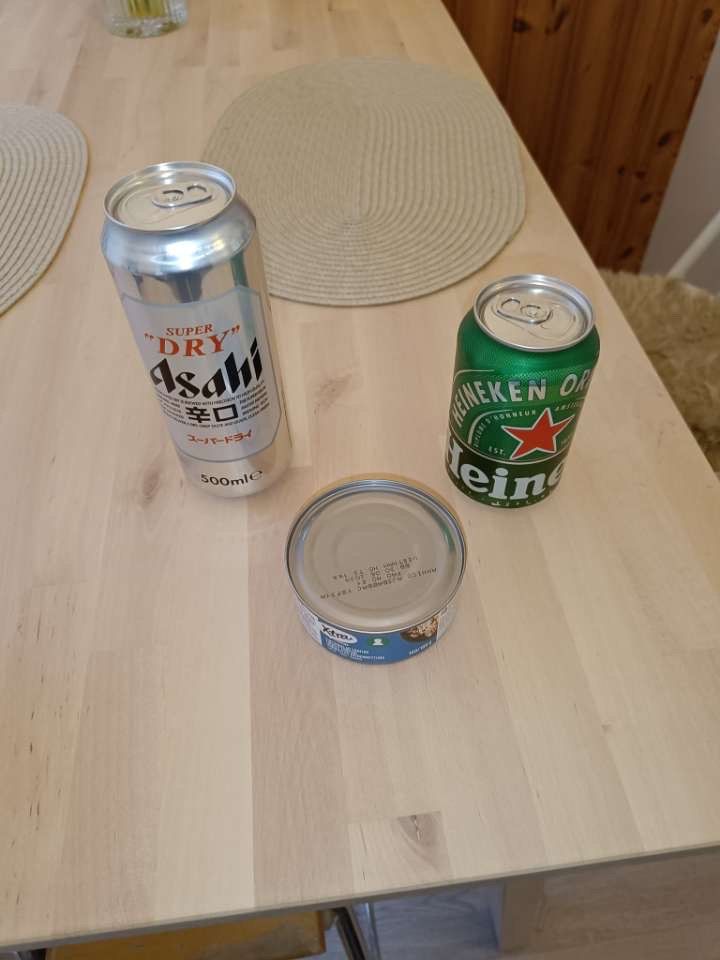Konservburk: (280, 473, 475, 672)
Pantburk: (88, 162, 302, 499), (441, 257, 605, 518)
